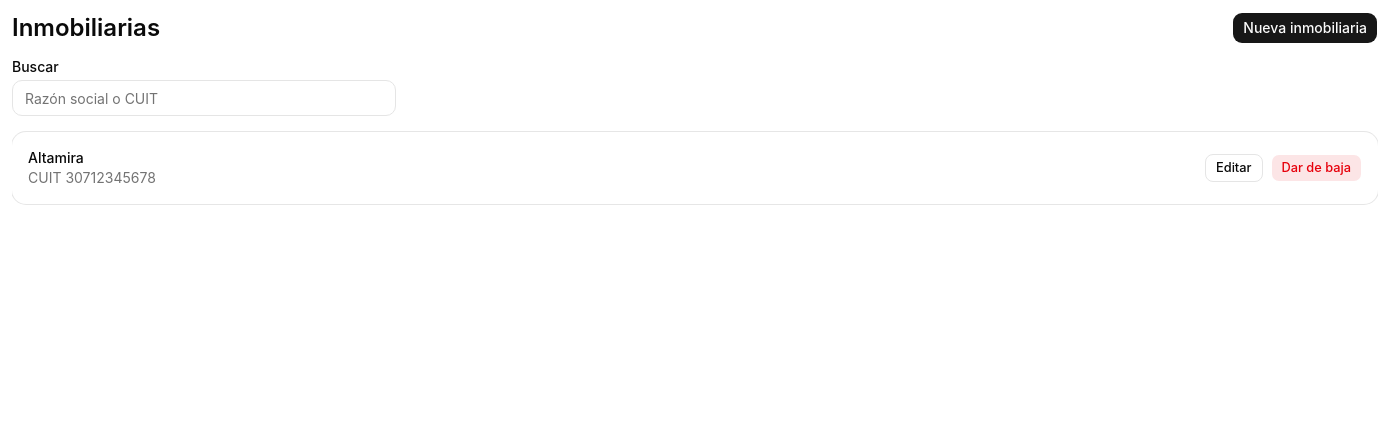
Test: AgenciesPage › rejects a CUIT another agency already uses, however it is typed
Check: the text "Altamira" is shown, box [28,149,84,166]
Click the button "Nueva inmobiliaria" at [1305, 28], box [1232,12,1378,44]
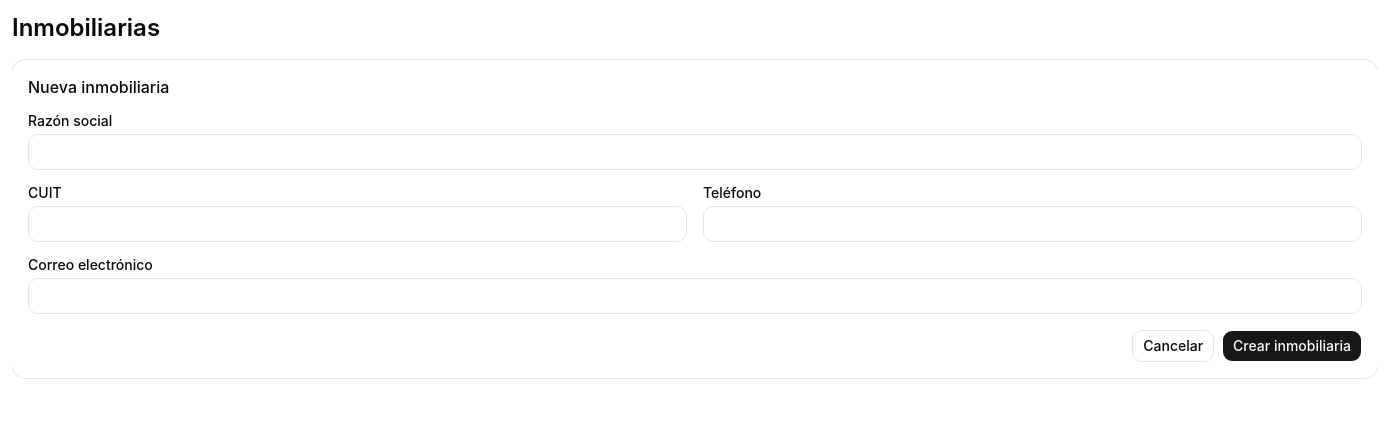
Type "Lotes del Sur" into the field labelled "Razón social" at [695, 152], box [28,134,1362,170]
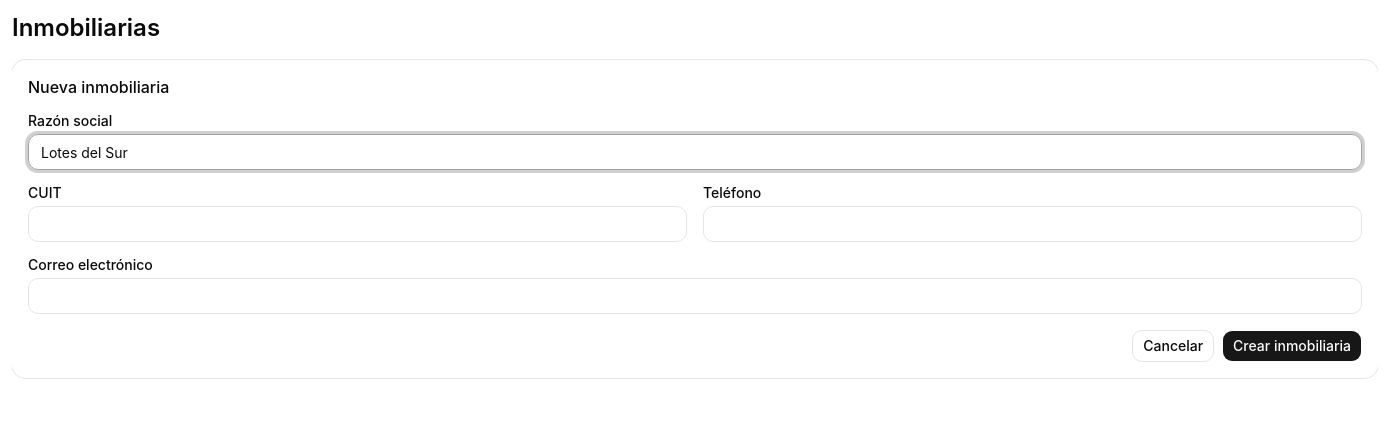
Type "30-71234567-8" into the field labelled "CUIT" at [358, 224], box [28,206,687,242]
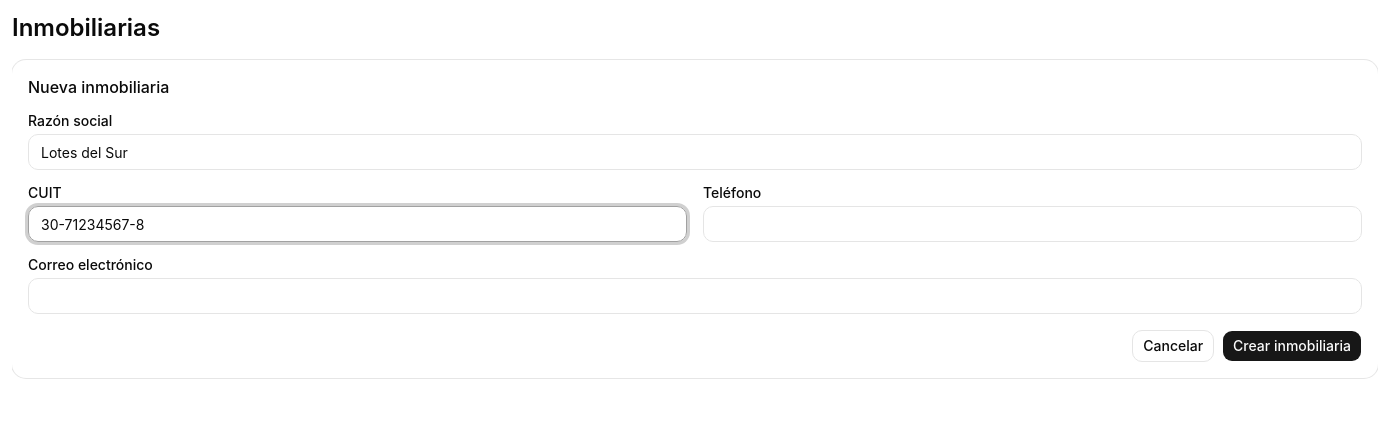
Click the button "Crear inmobiliaria" at [1292, 346], box [1222,330,1362,362]
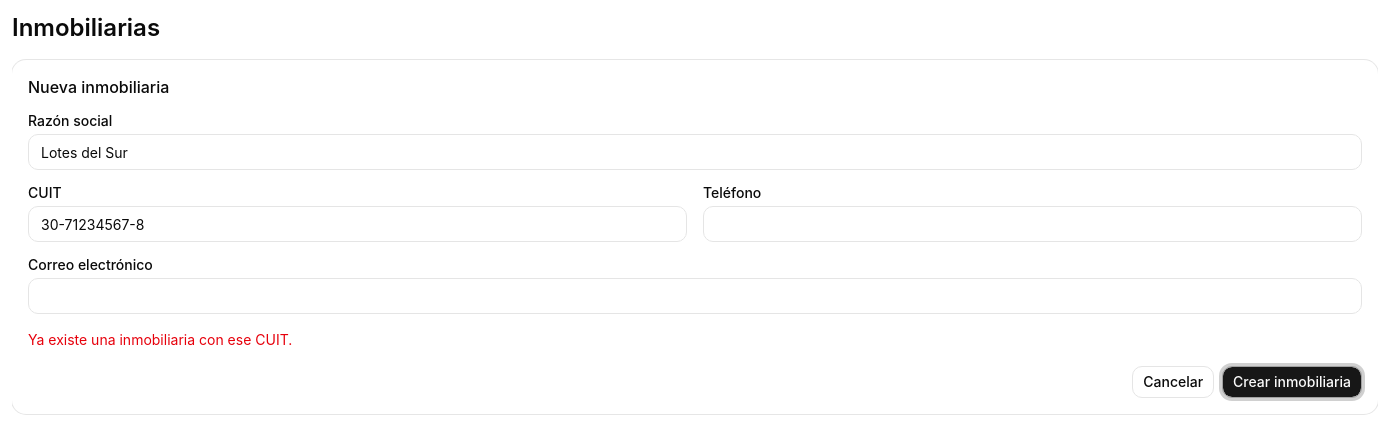
Check: the message reads "Ya existe una inmobiliaria con ese CUIT.", box [28,331,292,348]
